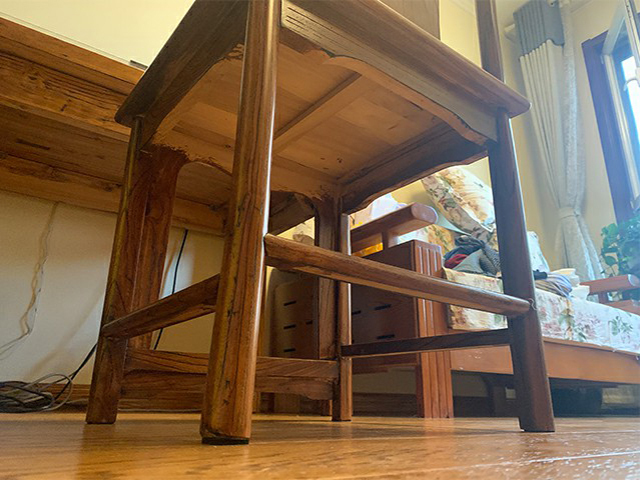curtain: (514, 2, 609, 300)
sofa: (268, 166, 640, 420)
stool: (82, 1, 557, 444)
wire: (1, 209, 189, 415)
